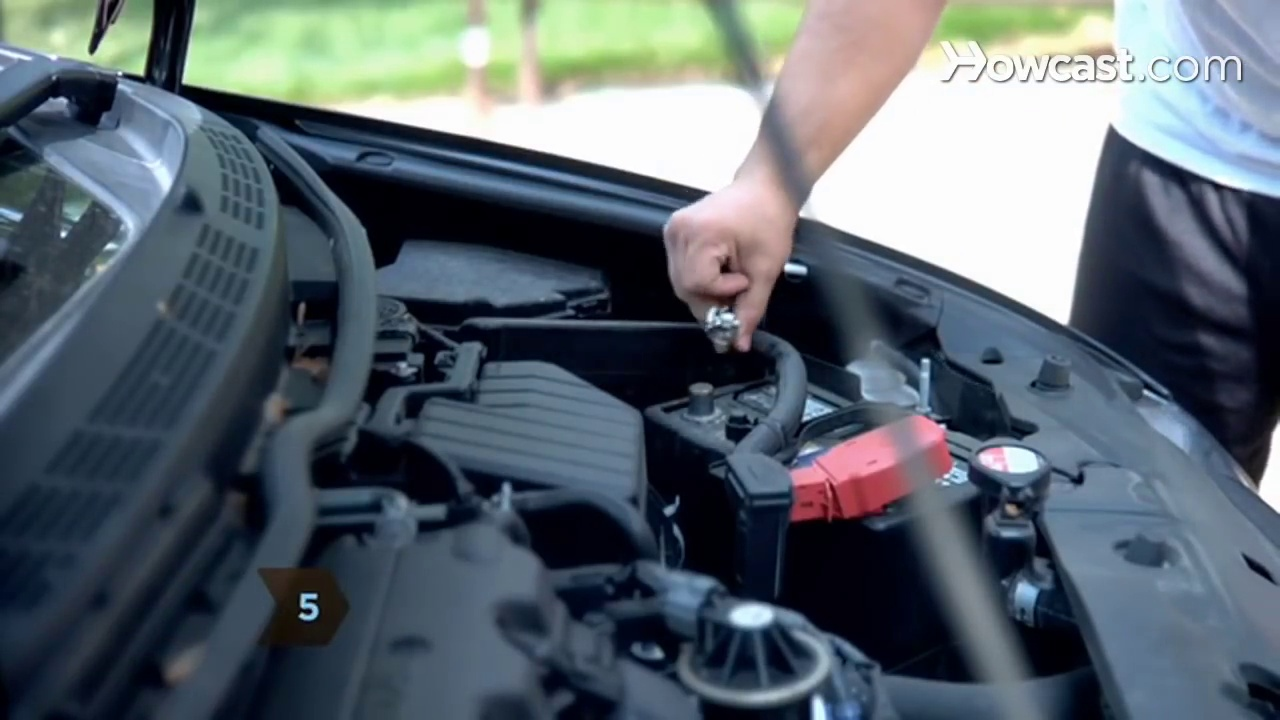battery: (650, 362, 1001, 532)
neg_disconnected: (671, 359, 739, 431)
pos_connected: (790, 423, 972, 523)
